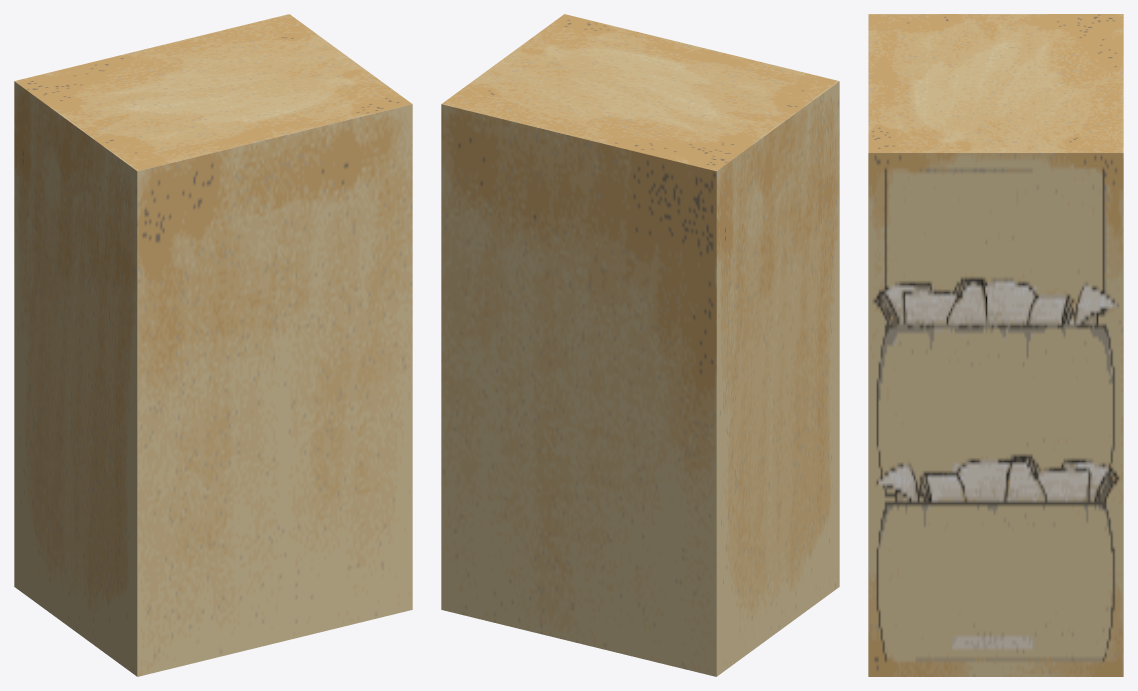
The model's file is filing_cabinet.glb.
The picture shows the model from 3 angles, left to right: view 1: azimuth 30°, elevation 25°; view 2: azimuth 150°, elevation 25°; view 3: azimuth 270°, elevation 25°; orthographic projection. The views are drawn at different scales.
Parts seen in each view (by area): view 1: filing cabinet; view 2: filing cabinet; view 3: filing cabinet.
Part boxes in pixels (<box>): filing cabinet: <box>14,14,412,676</box>; filing cabinet: <box>441,14,839,676</box>; filing cabinet: <box>868,14,1123,676</box>.
Size of the model in its own units: 1.12 by 1.97 by 0.8709.
Materials: 1 (1 with a texture image).
